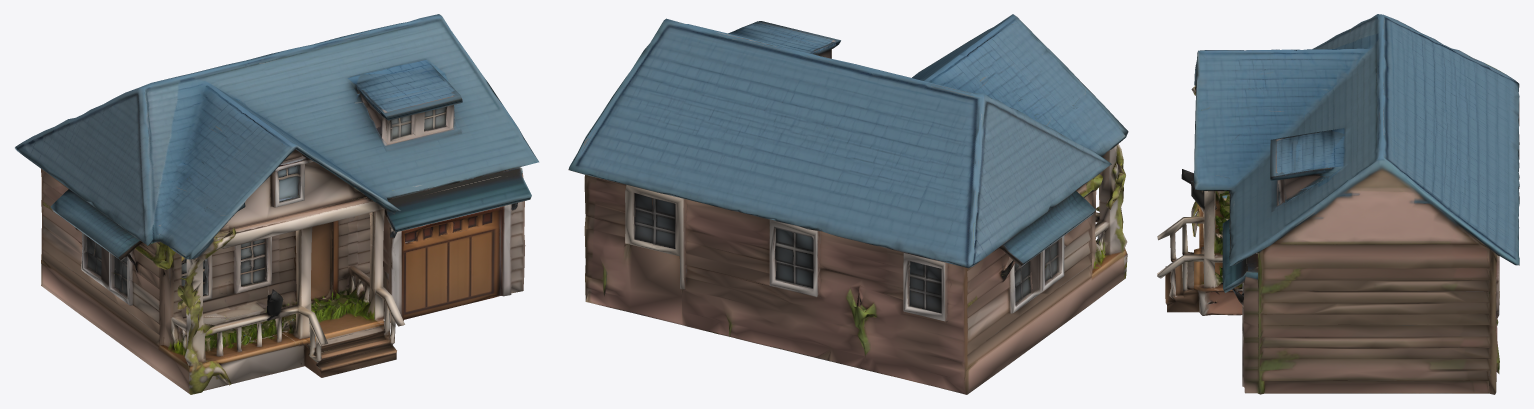
3 renders of one model, left to right at view 1: azimuth 30°, elevation 25°; view 2: azimuth 150°, elevation 25°; view 3: azimuth 270°, elevation 25°, orthographic. The views are drawn at different scales.
Visible parts, largest first — view 1: Mesh_0; view 2: Mesh_0; view 3: Mesh_0.
Boxes of the visible parts, x1=… form: Mesh_0: x1=15, y1=14, x2=539, y2=394; Mesh_0: x1=568, y1=14, x2=1128, y2=394; Mesh_0: x1=1157, y1=14, x2=1519, y2=394.
Size of the model in its own units: 191 by 109 by 157.
Materials: 1 (1 with a texture image).
